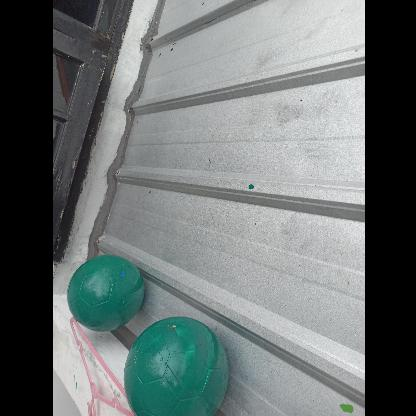green_ball: (123, 317, 233, 415), (64, 252, 144, 332)
